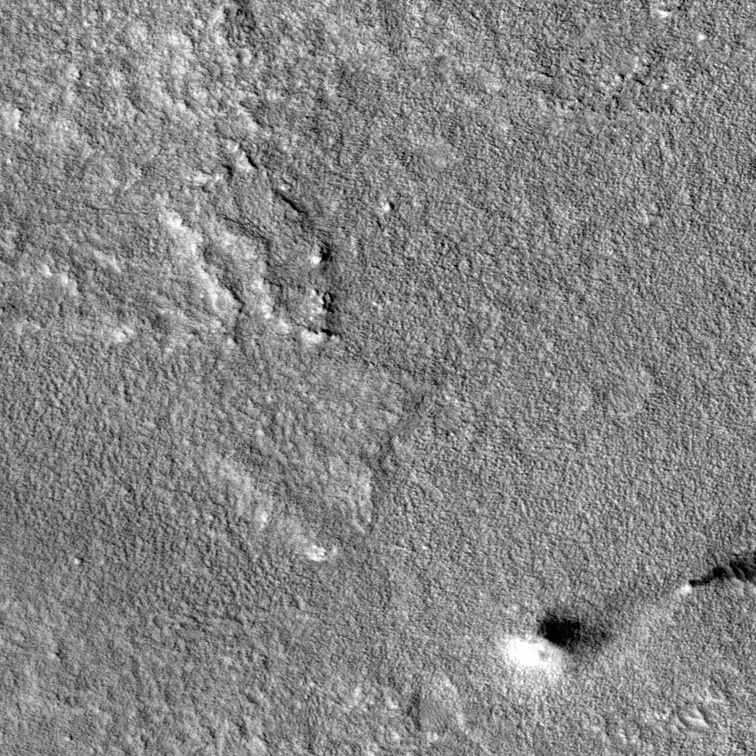dust_devil: (501, 612, 617, 685), (675, 550, 756, 597)
